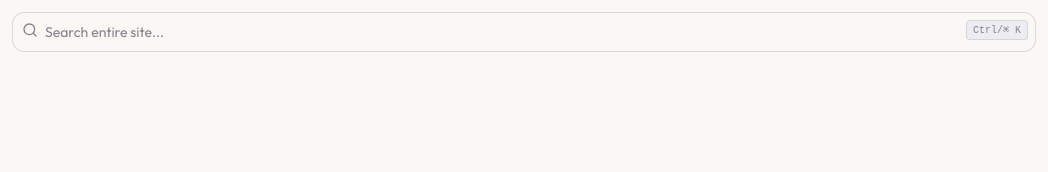
Scenario: SiteSearch career results › does not advertise the disabled Forum
Type "forum" into the search field labelled "Search entire site..." at {"x": 524, "y": 32}, box [12,12,1036,52]
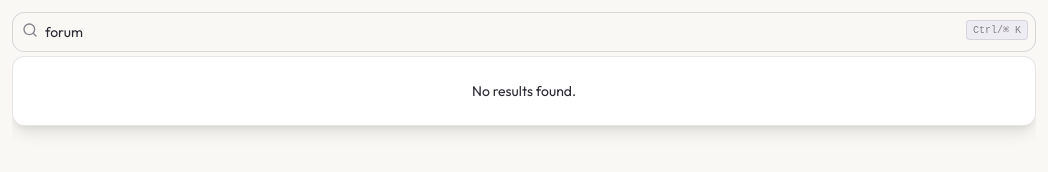
Check: the text "No results found." is shown, box [472,82,576,100]
